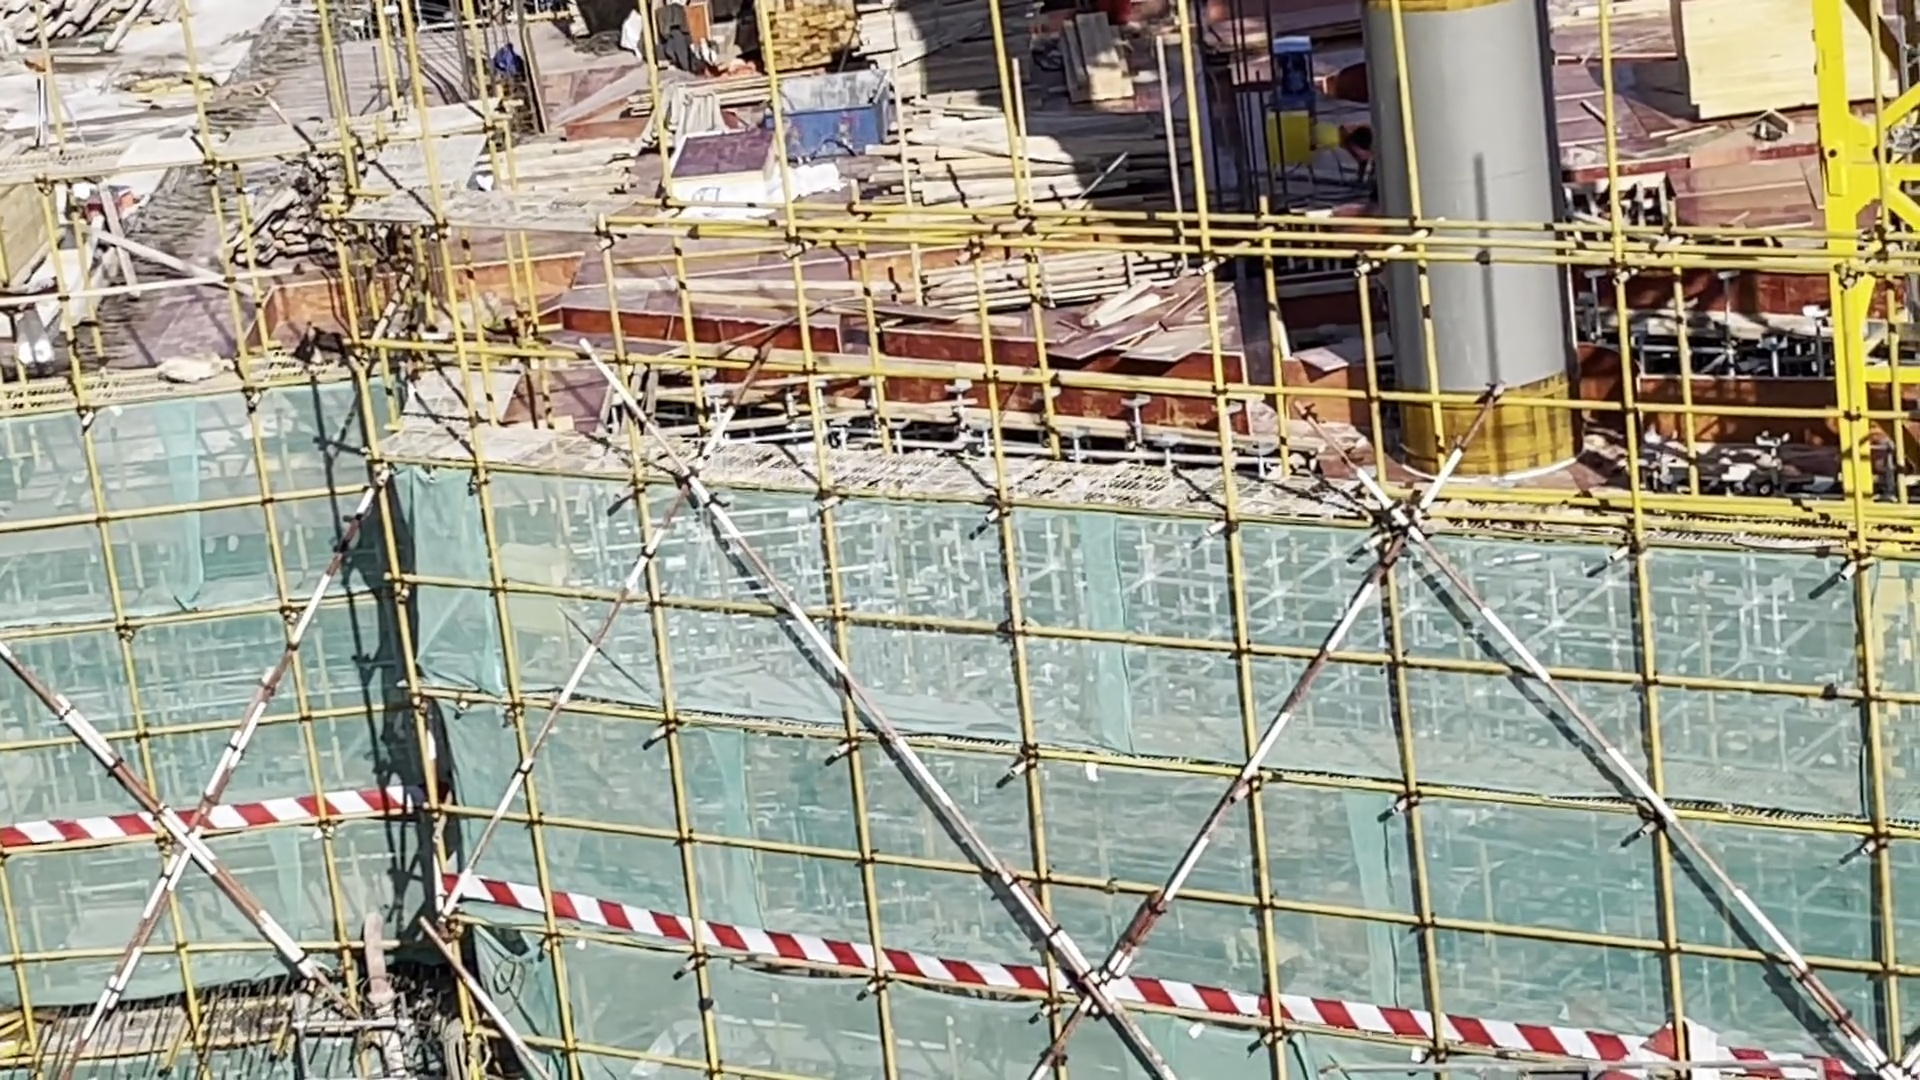board: (1043, 297, 1232, 363)
helmet: (1315, 120, 1342, 149)
hopper: (1628, 335, 1886, 478), (770, 71, 882, 152)
person: (1300, 115, 1391, 203)
wood: (897, 104, 1100, 219), (891, 232, 1158, 296)
